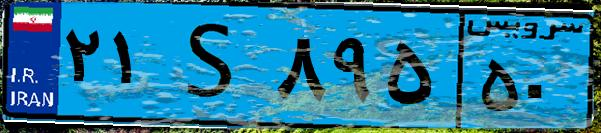0: (525, 38, 570, 115)
1: (110, 28, 158, 98)
2: (57, 26, 110, 100)
5: (385, 28, 445, 110), (475, 38, 525, 113)
8: (270, 28, 330, 110)
9: (330, 28, 385, 110)
S: (158, 12, 270, 120)
